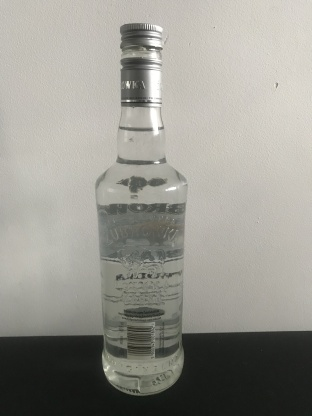nakretka: (118, 20, 164, 107)
